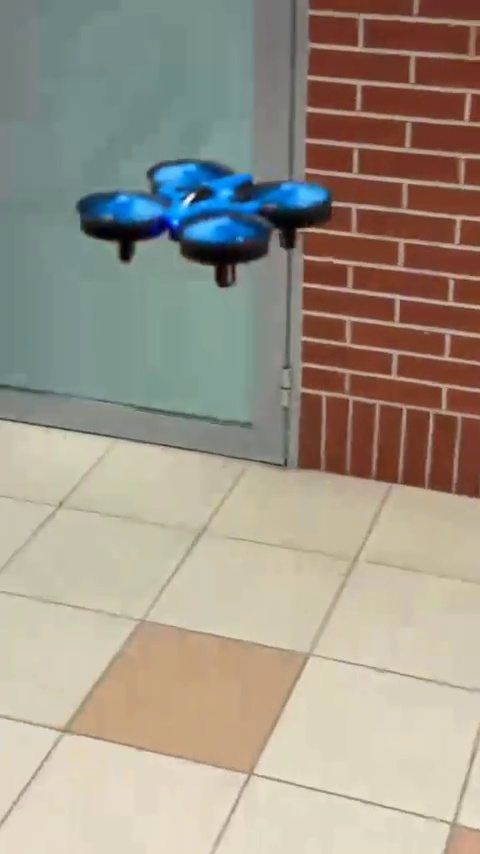drone: (78, 159, 328, 289)
